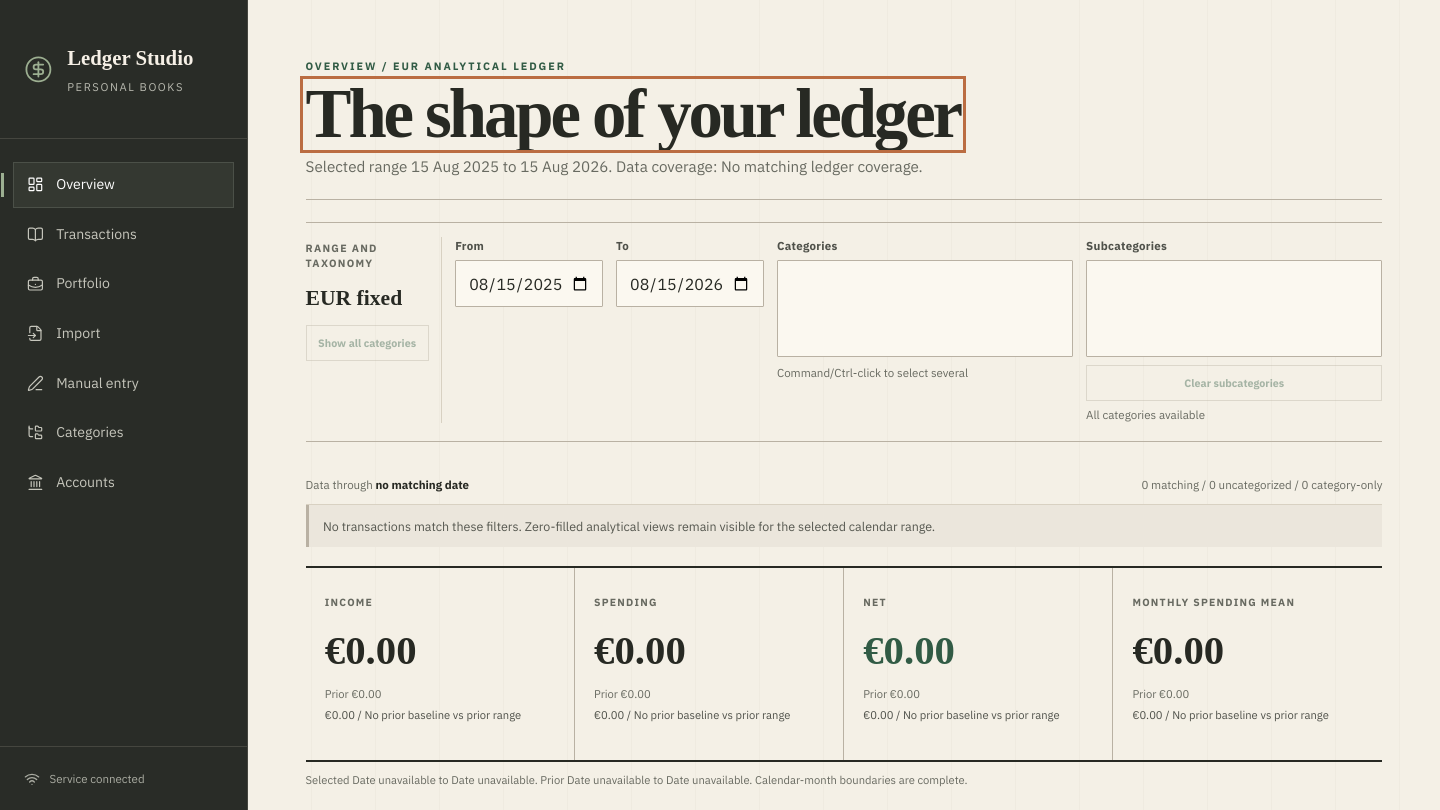
Test: app navigation › moves between lazy nested routes
Expected: the heading "The shape of your ledger" is shown, [306, 82, 960, 147]
Click the link "Transactions": (82, 234) [27, 225, 137, 243]
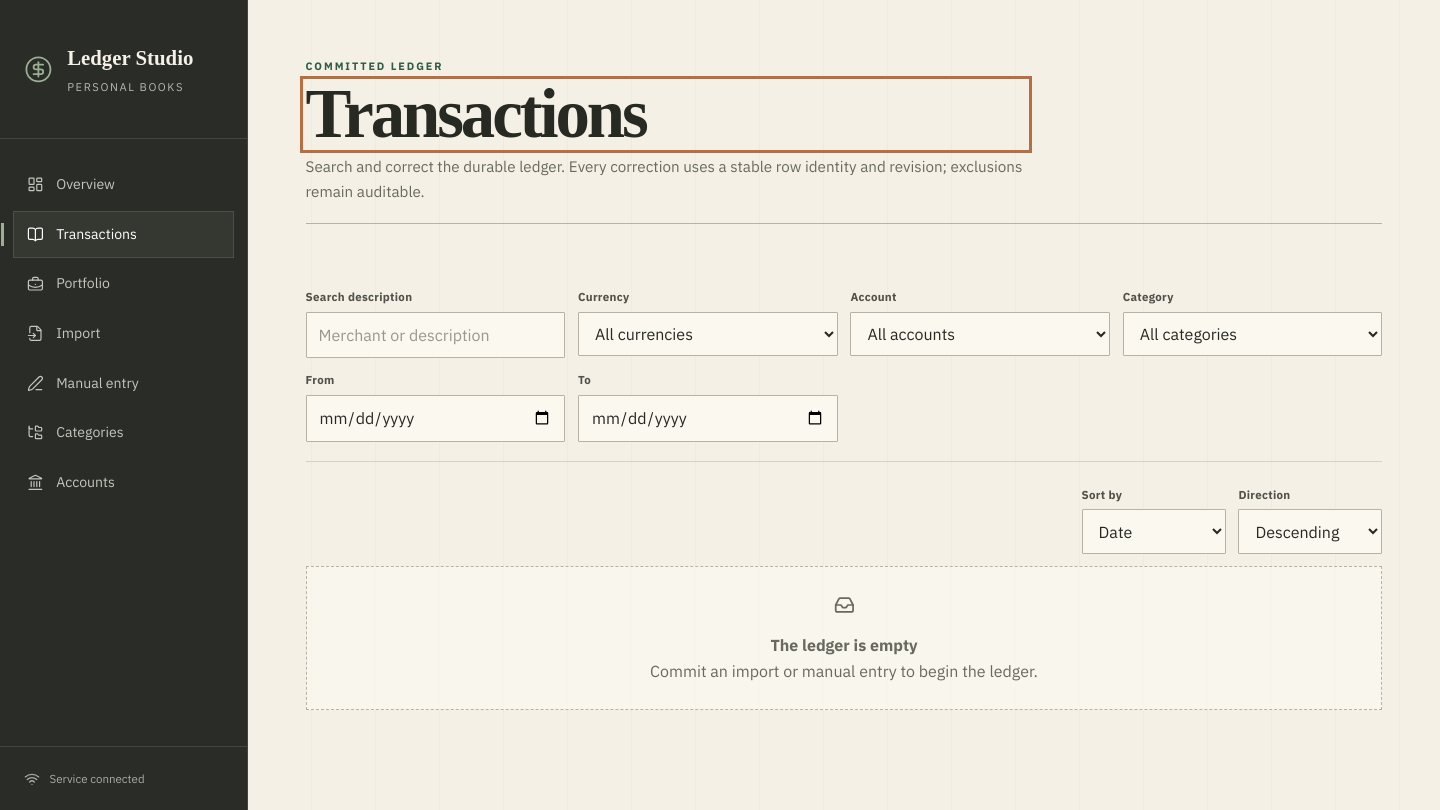
Result: the heading "Transactions" is shown at [306, 76, 646, 152]
